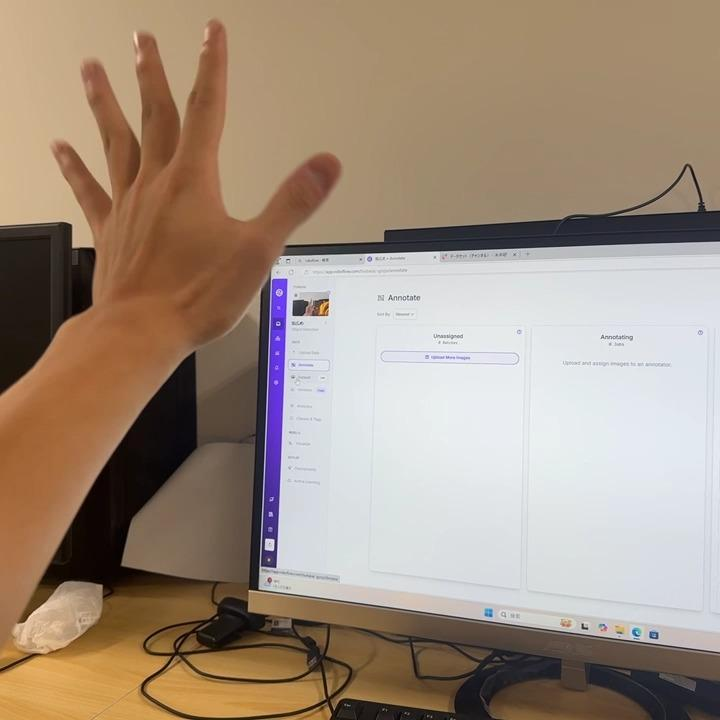without_gloves: (18, 4, 413, 372)
